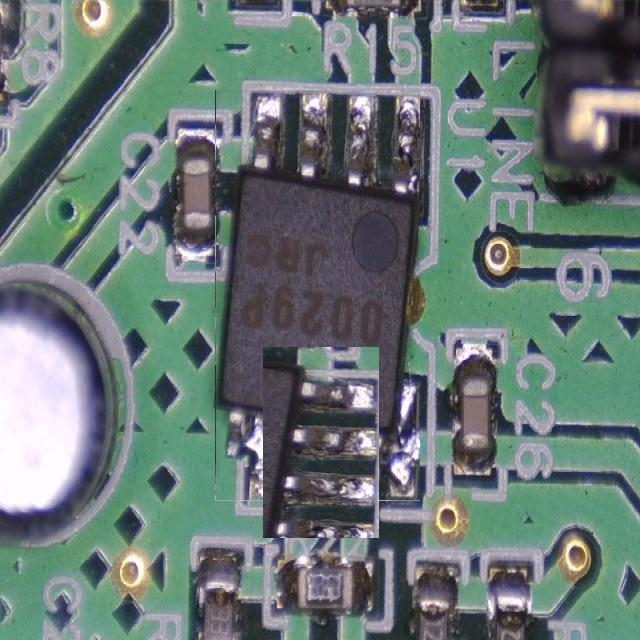Incorrect_installation: (215, 91, 420, 499)
Short_circuit: (264, 346, 379, 538)
